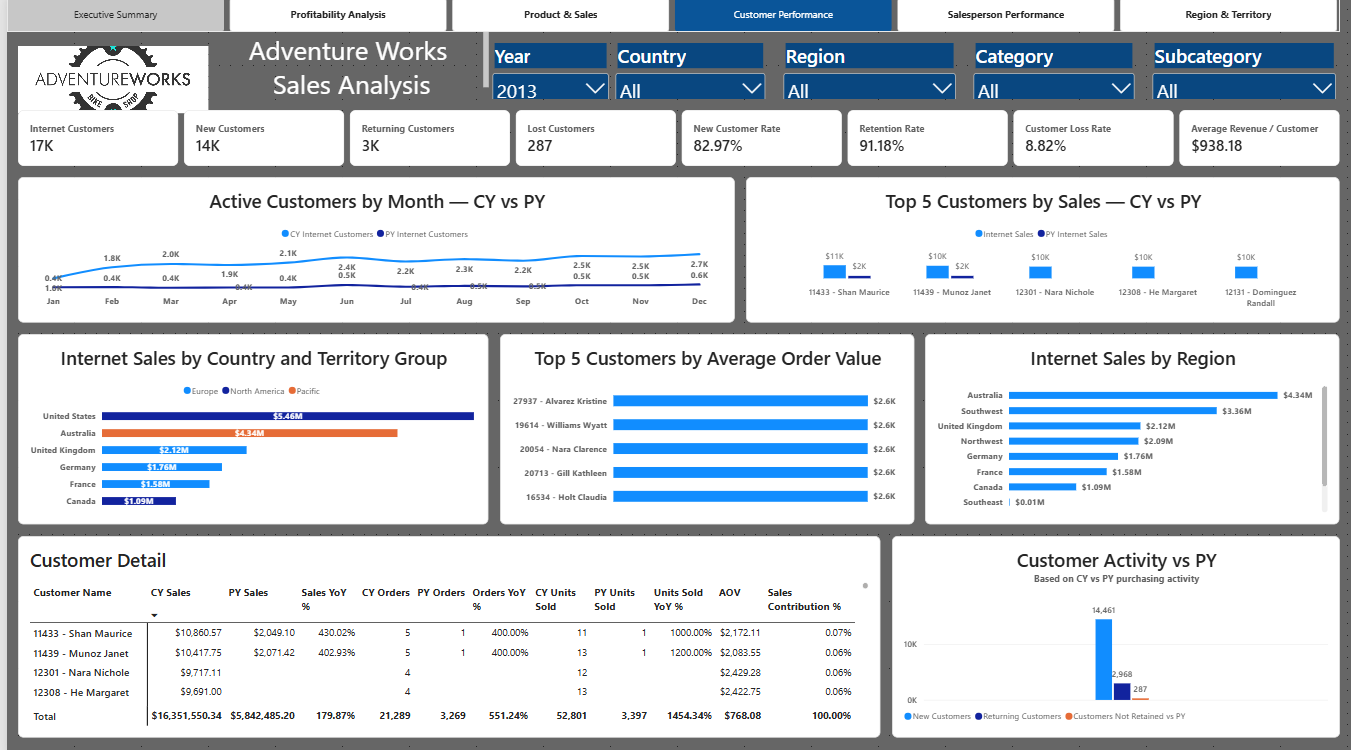

What the dashboard file says about the page in this screenshot:
{"tool":"powerbi","page":{"name":"Customer Performance","canvas":[1920,1080],"ordinal":3},"visuals":[{"type":"textbox","box":[304,48,384,96],"z":0},{"type":"image","box":[16,68.1,272,96],"z":1000},{"type":"slicer","fields":{"Values":["DimDate.CalendarYear"]},"box":[688,64,176,80],"z":2000},{"type":"slicer","fields":{"Values":["DimSalesTerritory.SalesTerritoryRegion"]},"box":[1104,64,256,80],"z":3000},{"type":"slicer","fields":{"Values":["DimProductCategory.EnglishProductCategoryName"]},"box":[1376,64,240,80],"z":4000},{"type":"slicer","fields":{"Values":["DimProductSubcategory.EnglishProductSubcategoryName"]},"box":[1632,64,272,80],"z":5000},{"type":"slicer","fields":{"Values":["DimSalesTerritory.SalesTerritoryCountry"]},"box":[864,64,224,80],"z":6000},{"type":"lineChart","title":"Active Customers by Month — CY vs PY","fields":{"Category":["DimDate.Short Month Name"],"Y":["_Measures.Internet Customers","_Measures.PY Internet Customers"]},"box":[16,256,1024,208],"z":7000},{"type":"pivotTable","title":"Customer Detail","fields":{"Values":["_Measures.Internet Sales","_Measures.PY Internet Sales","_Measures.Internet Sales YoY %","_Measures.Internet Orders","_Measures.PY Internet Orders","_Measures.Internet Orders YoY %","_Measures.Internet Units Sold","_Measures.PY Internet Units Sold","_Measures.Internet Units Sold YoY %","_Measures.Internet AOV","_Measures.Customer Sales Contribution %"],"Rows":["DimCustomer.Customer Name"]},"box":[16,768,1232,288],"z":8000},{"type":"cardVisual","fields":{"Data":["_Measures.Internet Customers","_Measures.New Customers","_Measures.Returning Customers","_Measures.Lost Customers","_Measures.New Customer Rate","_Measures.Customer Retention Rate","_Measures.Customer Loss Rate","_Measures.Average Revenue per Internet Customer"]},"box":[16,160,1888,80],"z":9000},{"type":"barChart","title":"Internet Sales by Country and Territory Group","fields":{"Category":["DimSalesTerritory.SalesTerritoryCountry"],"Y":["_Measures.Internet Sales"],"Series":["DimSalesTerritory.SalesTerritoryGroup"]},"box":[16,480,672,272],"z":10000},{"type":"clusteredColumnChart","title":"Customer Activity vs PY","fields":{"Y":["_Measures.New Customers","_Measures.Returning Customers","_Measures.Lost Customers"]},"box":[1264,768,640,288],"z":11000},{"type":"clusteredColumnChart","title":"Top 5 Customers by Sales — CY vs PY","fields":{"Category":["DimCustomer.Customer Name"],"Y":["_Measures.Internet Sales","_Measures.PY Internet Sales"]},"box":[1056,256,848,208],"z":12000},{"type":"barChart","title":"Top 5 Customers by Average Order Value","fields":{"Category":["DimCustomer.Customer Name"],"Y":["_Measures.Internet AOV"]},"box":[704,480,592,272],"z":13000},{"type":"barChart","title":"Internet Sales by Region","fields":{"Y":["_Measures.Internet Sales"],"Category":["DimSalesTerritory.SalesTerritoryRegion"]},"box":[1312,480,592,272],"z":14000},{"type":"pageNavigator","box":[0,0,1904,48],"z":15000}]}

Visuals, with their boxes on the page's 1920x1080 design canvas (x1, y1, x2, y2). These are canvas units, not pixel positions in the 1351x750 screenshot, which may show the page scaled, cropped or inside an application window:
textbox: left=304, top=48, right=688, bottom=144
image: left=16, top=68, right=288, bottom=164
slicer - DimDate.CalendarYear: left=688, top=64, right=864, bottom=144
slicer - DimSalesTerritory.SalesTerritoryRegion: left=1104, top=64, right=1360, bottom=144
slicer - DimProductCategory.EnglishProductCategoryName: left=1376, top=64, right=1616, bottom=144
slicer - DimProductSubcategory.EnglishProductSubcategoryName: left=1632, top=64, right=1904, bottom=144
slicer - DimSalesTerritory.SalesTerritoryCountry: left=864, top=64, right=1088, bottom=144
"Active Customers by Month — CY vs PY" lineChart: left=16, top=256, right=1040, bottom=464
"Customer Detail" pivotTable: left=16, top=768, right=1248, bottom=1056
cardVisual - _Measures.Internet Customers x _Measures.New Customers: left=16, top=160, right=1904, bottom=240
"Internet Sales by Country and Territory Group" barChart: left=16, top=480, right=688, bottom=752
"Customer Activity vs PY" clusteredColumnChart: left=1264, top=768, right=1904, bottom=1056
"Top 5 Customers by Sales — CY vs PY" clusteredColumnChart: left=1056, top=256, right=1904, bottom=464
"Top 5 Customers by Average Order Value" barChart: left=704, top=480, right=1296, bottom=752
"Internet Sales by Region" barChart: left=1312, top=480, right=1904, bottom=752
pageNavigator: left=0, top=0, right=1904, bottom=48
